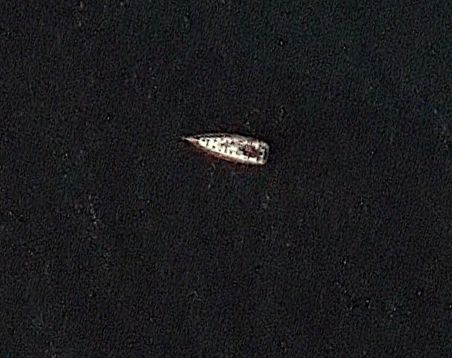boat: (180, 133, 272, 169)
